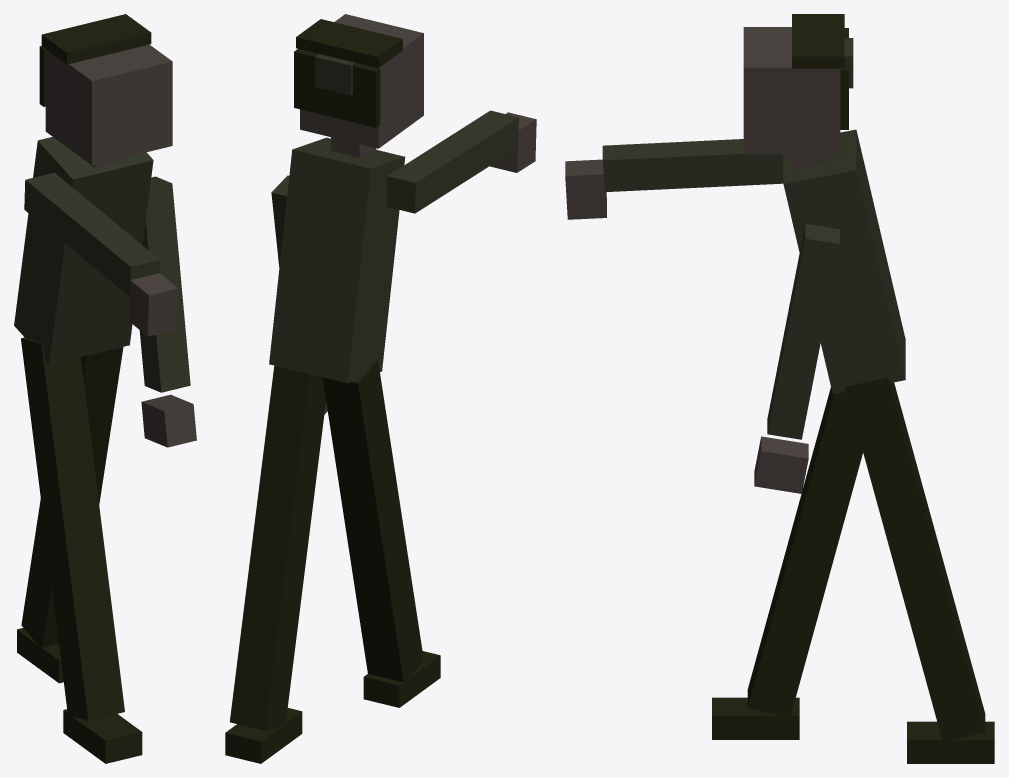
Rendered from SM_ZombiFino_v5_BrazoCaido_LOD0.fbx.
The picture shows the model from 3 angles, left to right: view 1: azimuth 30°, elevation 25°; view 2: azimuth 150°, elevation 25°; view 3: azimuth 270°, elevation 25°; orthographic projection. The views are drawn at different scales.
Parts seen in each view (by area): view 1: SM_zombi_fino_v5_LOD0; view 2: SM_zombi_fino_v5_LOD0; view 3: SM_zombi_fino_v5_LOD0.
Boxes of the visible parts, x1,y1,x2,y2 form: SM_zombi_fino_v5_LOD0: [14, 14, 196, 763]; SM_zombi_fino_v5_LOD0: [225, 14, 536, 763]; SM_zombi_fino_v5_LOD0: [565, 14, 994, 763].
Bounding box in the file's own units: 0.38 × 1.78 × 0.9796.
